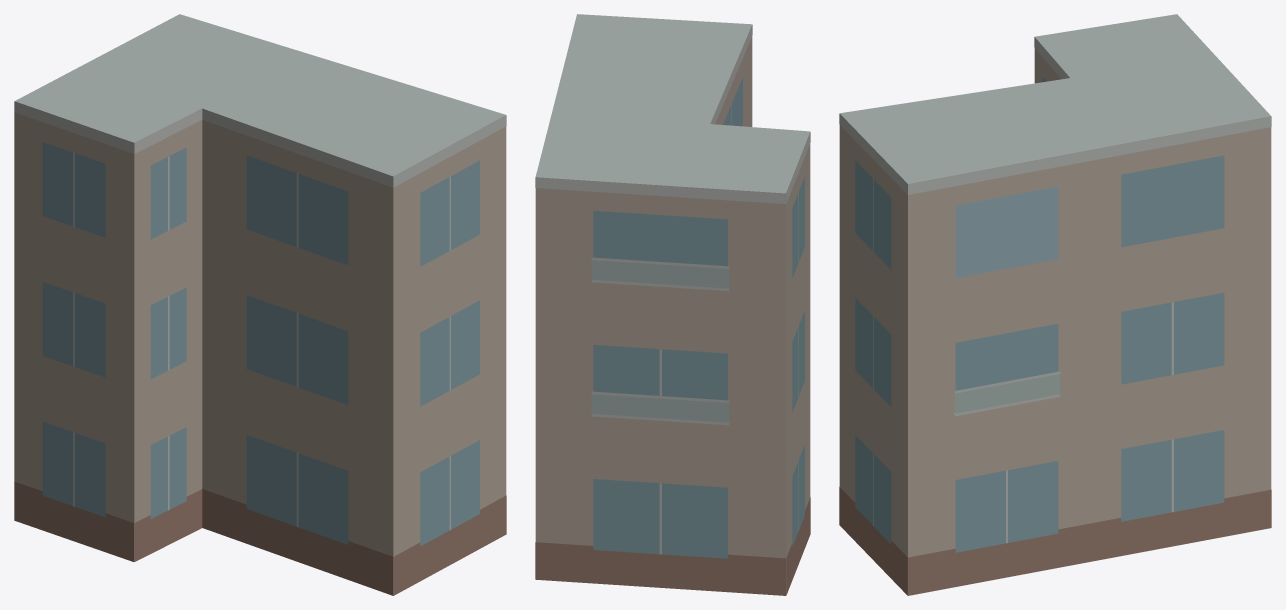
The model's file is survey-upis-32889505.glb.
3 views of the same model, side by side, from view 1: azimuth 30°, elevation 25°; view 2: azimuth 150°, elevation 25°; view 3: azimuth 270°, elevation 25° (orthographic). The views are drawn at different scales.
Parts seen in each view (by area): view 1: survey-upis-32889505.tmp; view 2: survey-upis-32889505.tmp; view 3: survey-upis-32889505.tmp.
Part boxes in pixels (left/top/right/bottom): survey-upis-32889505.tmp: left=14, top=14, right=506, bottom=595; survey-upis-32889505.tmp: left=535, top=14, right=810, bottom=595; survey-upis-32889505.tmp: left=839, top=14, right=1271, bottom=595.
Bounding box in the file's own units: 8.12 × 9.15 × 8.71.
